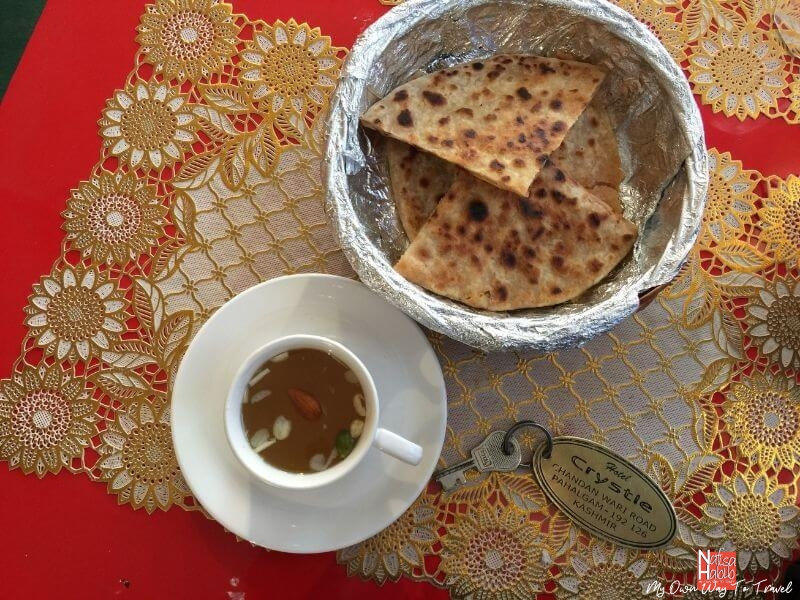aloo_paratha: (365, 55, 640, 311)
